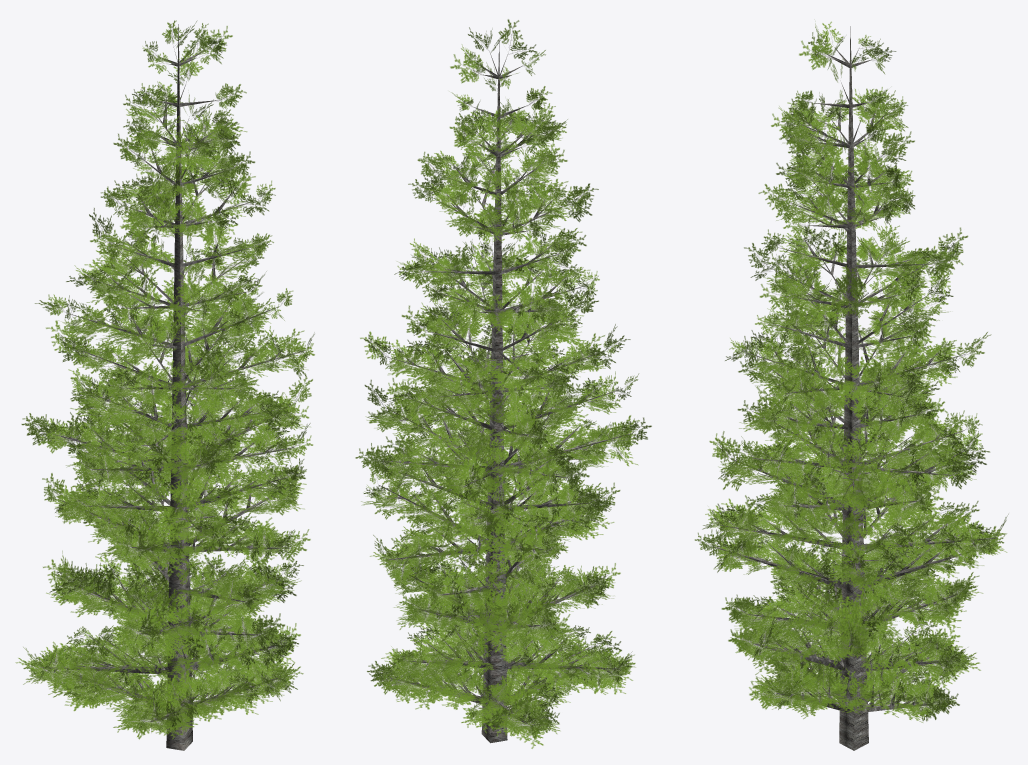
Rendered from tree6.glb.
3 views of the same model, side by side, from view 1: azimuth 30°, elevation 25°; view 2: azimuth 150°, elevation 25°; view 3: azimuth 270°, elevation 25° (orthographic). The views are drawn at different scales.
Parts seen in each view (by area): view 1: Low Poly Evergreen Tree Tall 2; view 2: Low Poly Evergreen Tree Tall 2; view 3: Low Poly Evergreen Tree Tall 2.
Boxes of the visible parts, box(x1,y1,x2,y2) form: Low Poly Evergreen Tree Tall 2: box(15, 20, 314, 750); Low Poly Evergreen Tree Tall 2: box(355, 19, 651, 748); Low Poly Evergreen Tree Tall 2: box(694, 21, 1008, 750).
Size of the model in its own units: 21.05 by 48.98 by 19.85.
2 materials, 2 textured.
